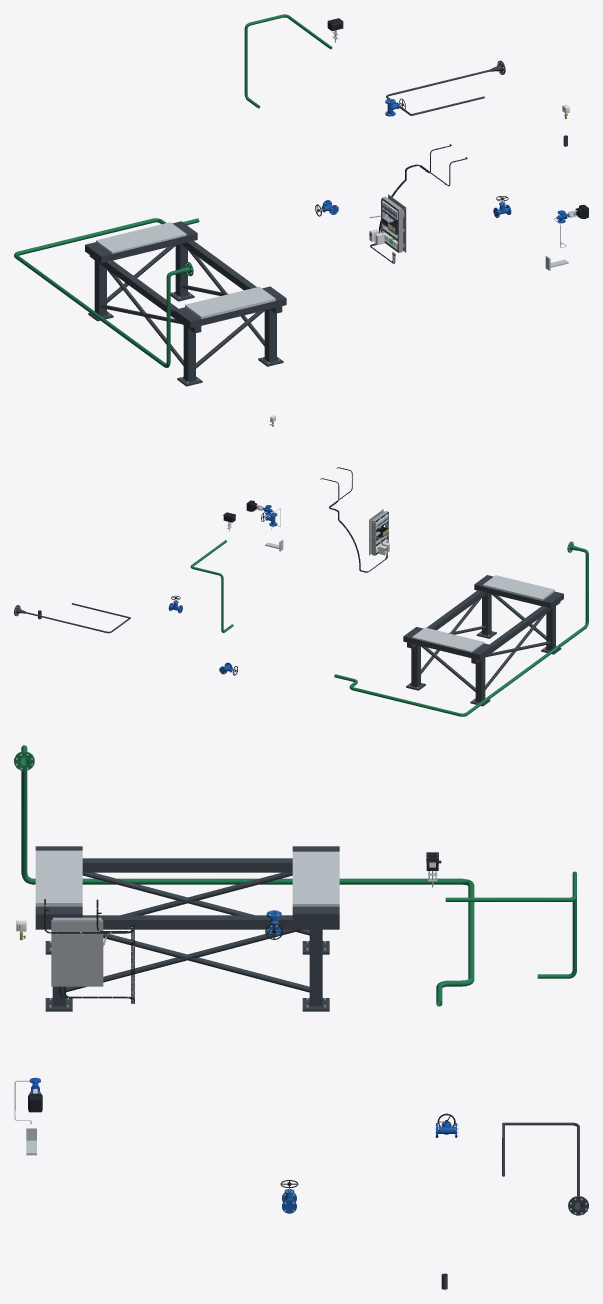
The picture shows the model from 3 angles, top to bottom: view 1: azimuth 30°, elevation 25°; view 2: azimuth 150°, elevation 25°; view 3: azimuth 270°, elevation 25°; orthographic projection. The views are drawn at different scales.
Visible parts, largest first — view 1: deaerator_support / dark, deaerator_support / steel, deaerator_feed / green, cabinet_interior / cabinet_interior_0.npz, from_economizer / green; view 2: deaerator_support / dark, deaerator_support / steel, deaerator_feed / green, cabinet_interior / cabinet_interior_0.npz, from_economizer / green; view 3: deaerator_support / dark, deaerator_support / steel, deaerator_feed / green, cabinet_interior / cabinet_interior_0.npz, from_economizer / green, tds_to_fv / dark.
Boxes of the visible parts, x1,y1,x2,y2 form: deaerator_support / dark: (85, 221, 286, 386); deaerator_support / steel: (96, 222, 279, 383); deaerator_feed / green: (14, 218, 199, 367); cabinet_interior / cabinet_interior_0.npz: (369, 194, 406, 252); from_economizer / green: (244, 14, 332, 108); deaerator_support / dark: (403, 575, 563, 706); deaerator_support / steel: (409, 575, 554, 701); deaerator_feed / green: (334, 541, 588, 716); cabinet_interior / cabinet_interior_0.npz: (369, 509, 388, 555); from_economizer / green: (190, 540, 233, 632); deaerator_support / dark: (35, 846, 339, 1011); deaerator_support / steel: (35, 850, 339, 1007); deaerator_feed / green: (14, 745, 474, 1006); cabinet_interior / cabinet_interior_0.npz: (51, 917, 106, 986); from_economizer / green: (445, 871, 576, 978); tds_to_fv / dark: (504, 1122, 588, 1215).
Size of the model in its own units: 8.51 by 2.96 by 5.37.
